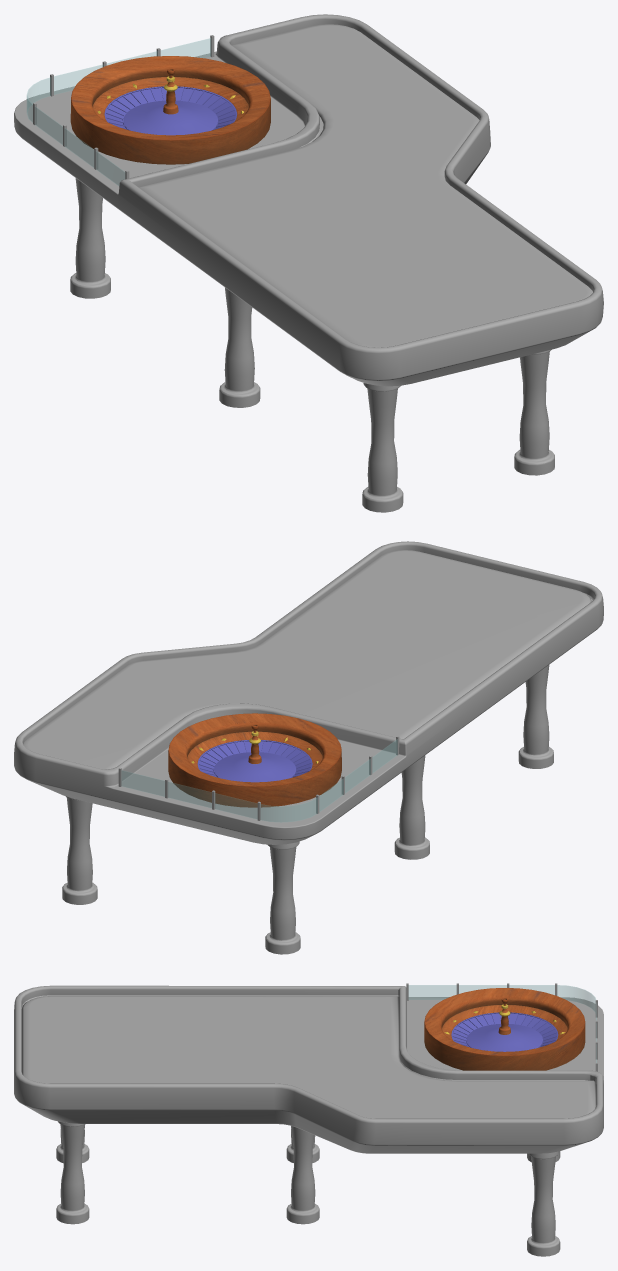
Rendered from RouletteTable_2.fbx.
3 renders of one model, top to bottom at view 1: azimuth 30°, elevation 25°; view 2: azimuth 150°, elevation 25°; view 3: azimuth 270°, elevation 25°, orthographic. The views are drawn at different scales.
Parts seen in each view (by area): view 1: RouletteTable_2, Roulette, RouletteRotator; view 2: RouletteTable_2, Roulette, RouletteRotator; view 3: RouletteTable_2, Roulette, RouletteRotator.
Part boxes in pixels (bbox=[...]): RouletteTable_2: bbox=[14, 14, 603, 512]; Roulette: bbox=[70, 56, 270, 164]; RouletteRotator: bbox=[104, 86, 237, 135]; RouletteTable_2: bbox=[14, 541, 603, 954]; Roulette: bbox=[168, 713, 341, 807]; RouletteRotator: bbox=[197, 740, 312, 782]; RouletteTable_2: bbox=[14, 983, 603, 1256]; Roulette: bbox=[424, 988, 585, 1070]; RouletteRotator: bbox=[451, 1012, 558, 1051].
Bounding box in the file's own units: 190 × 117 × 346.
5 materials, 1 textured.
